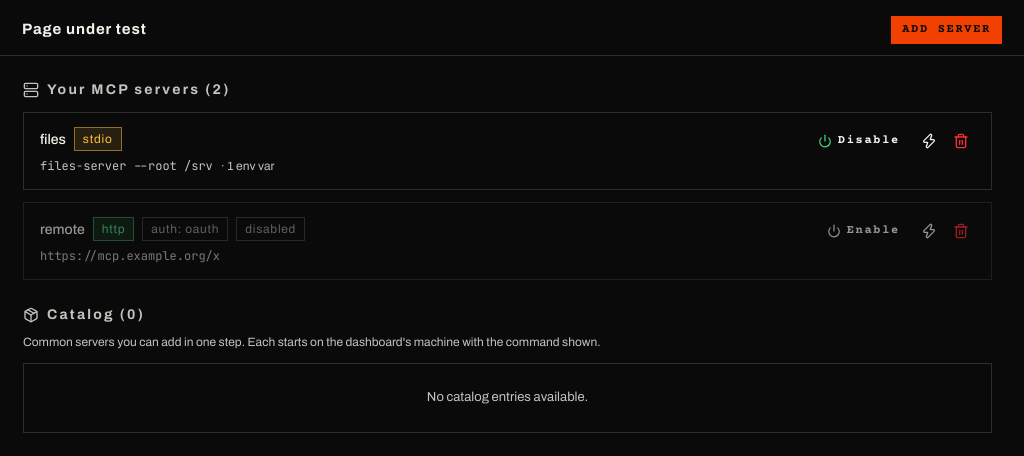
Test case: mcp page › renders the tool list from a test
(page scrolled)
Click the button named "Test" in the row of "stdio".
click(929, 141)  # box [915,127,943,155]
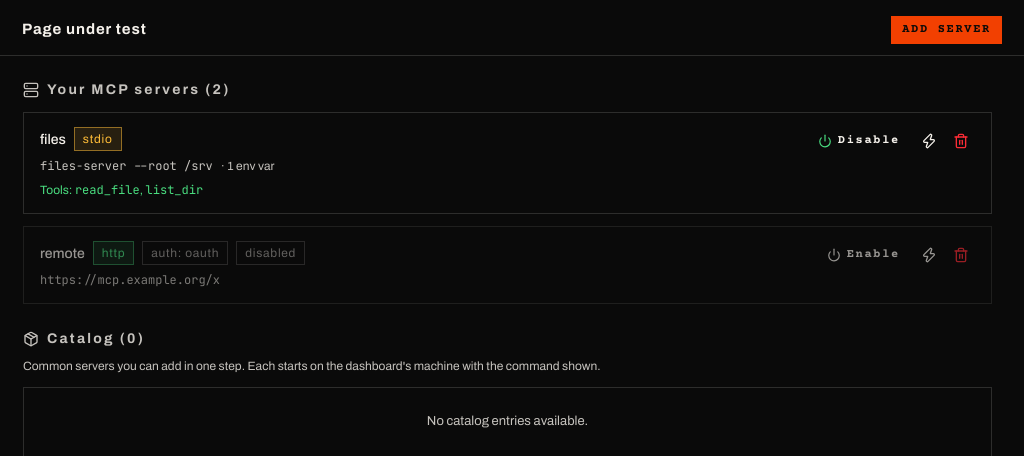
Expected: the list items read "read_file, ", "list_dir", in this order, [75,183,146,197]; [146,183,203,197]
Expected: the text titled "Read a file" reads "read_file", [75,182,140,198]
